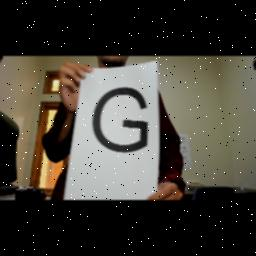g: (88, 84, 150, 160)
